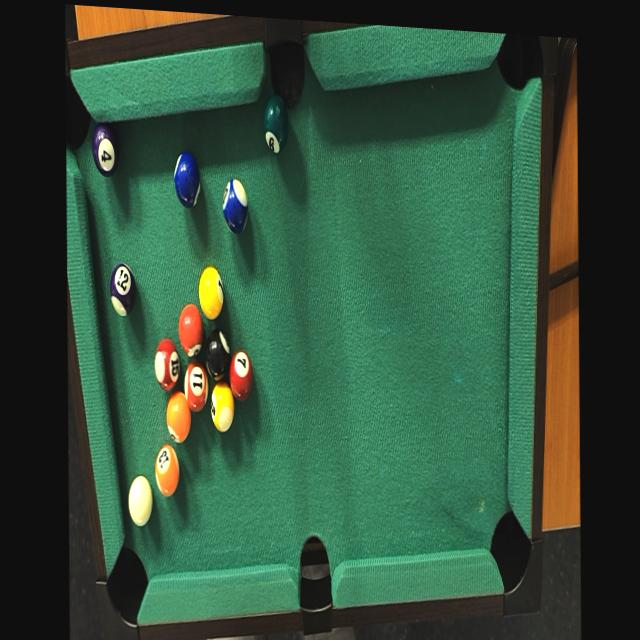cue ball: (124, 475, 152, 529)
other: (171, 139, 201, 218), (218, 172, 252, 237), (152, 435, 181, 507), (261, 89, 290, 157), (198, 258, 225, 323), (107, 258, 134, 323), (164, 388, 194, 446), (179, 295, 205, 361), (206, 379, 235, 437), (152, 337, 181, 393), (204, 326, 230, 388), (181, 358, 206, 418), (93, 118, 118, 176), (227, 347, 252, 405)
